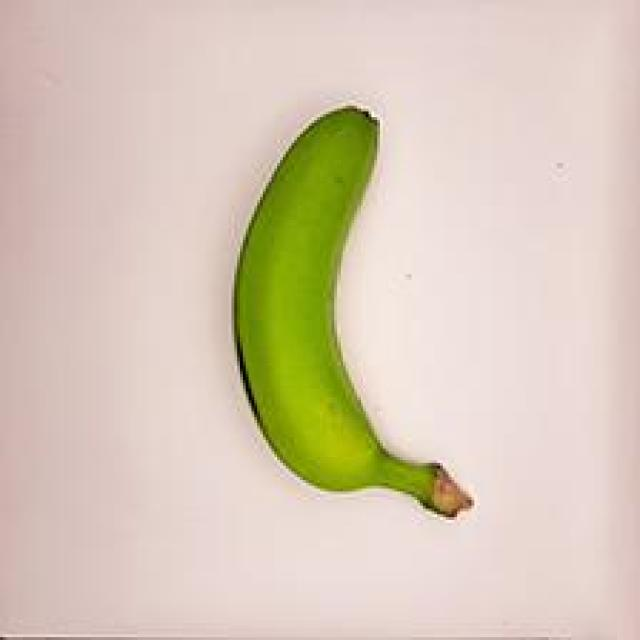unripe: (179, 77, 523, 544)
